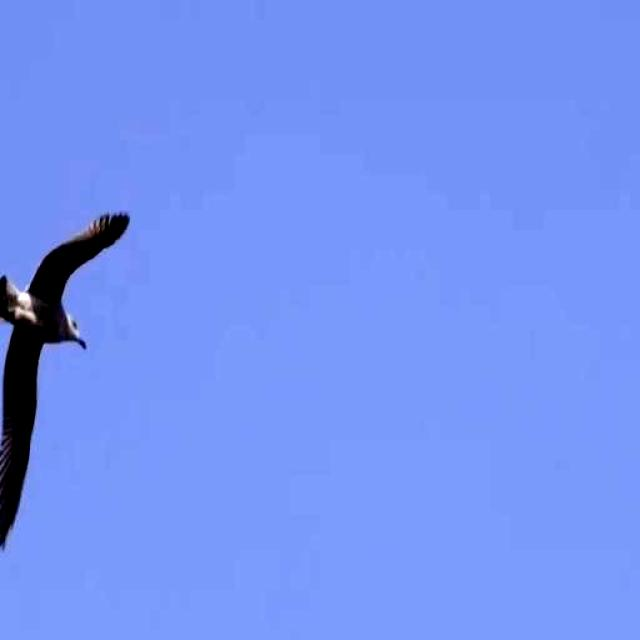airplane: (0, 189, 131, 565)
